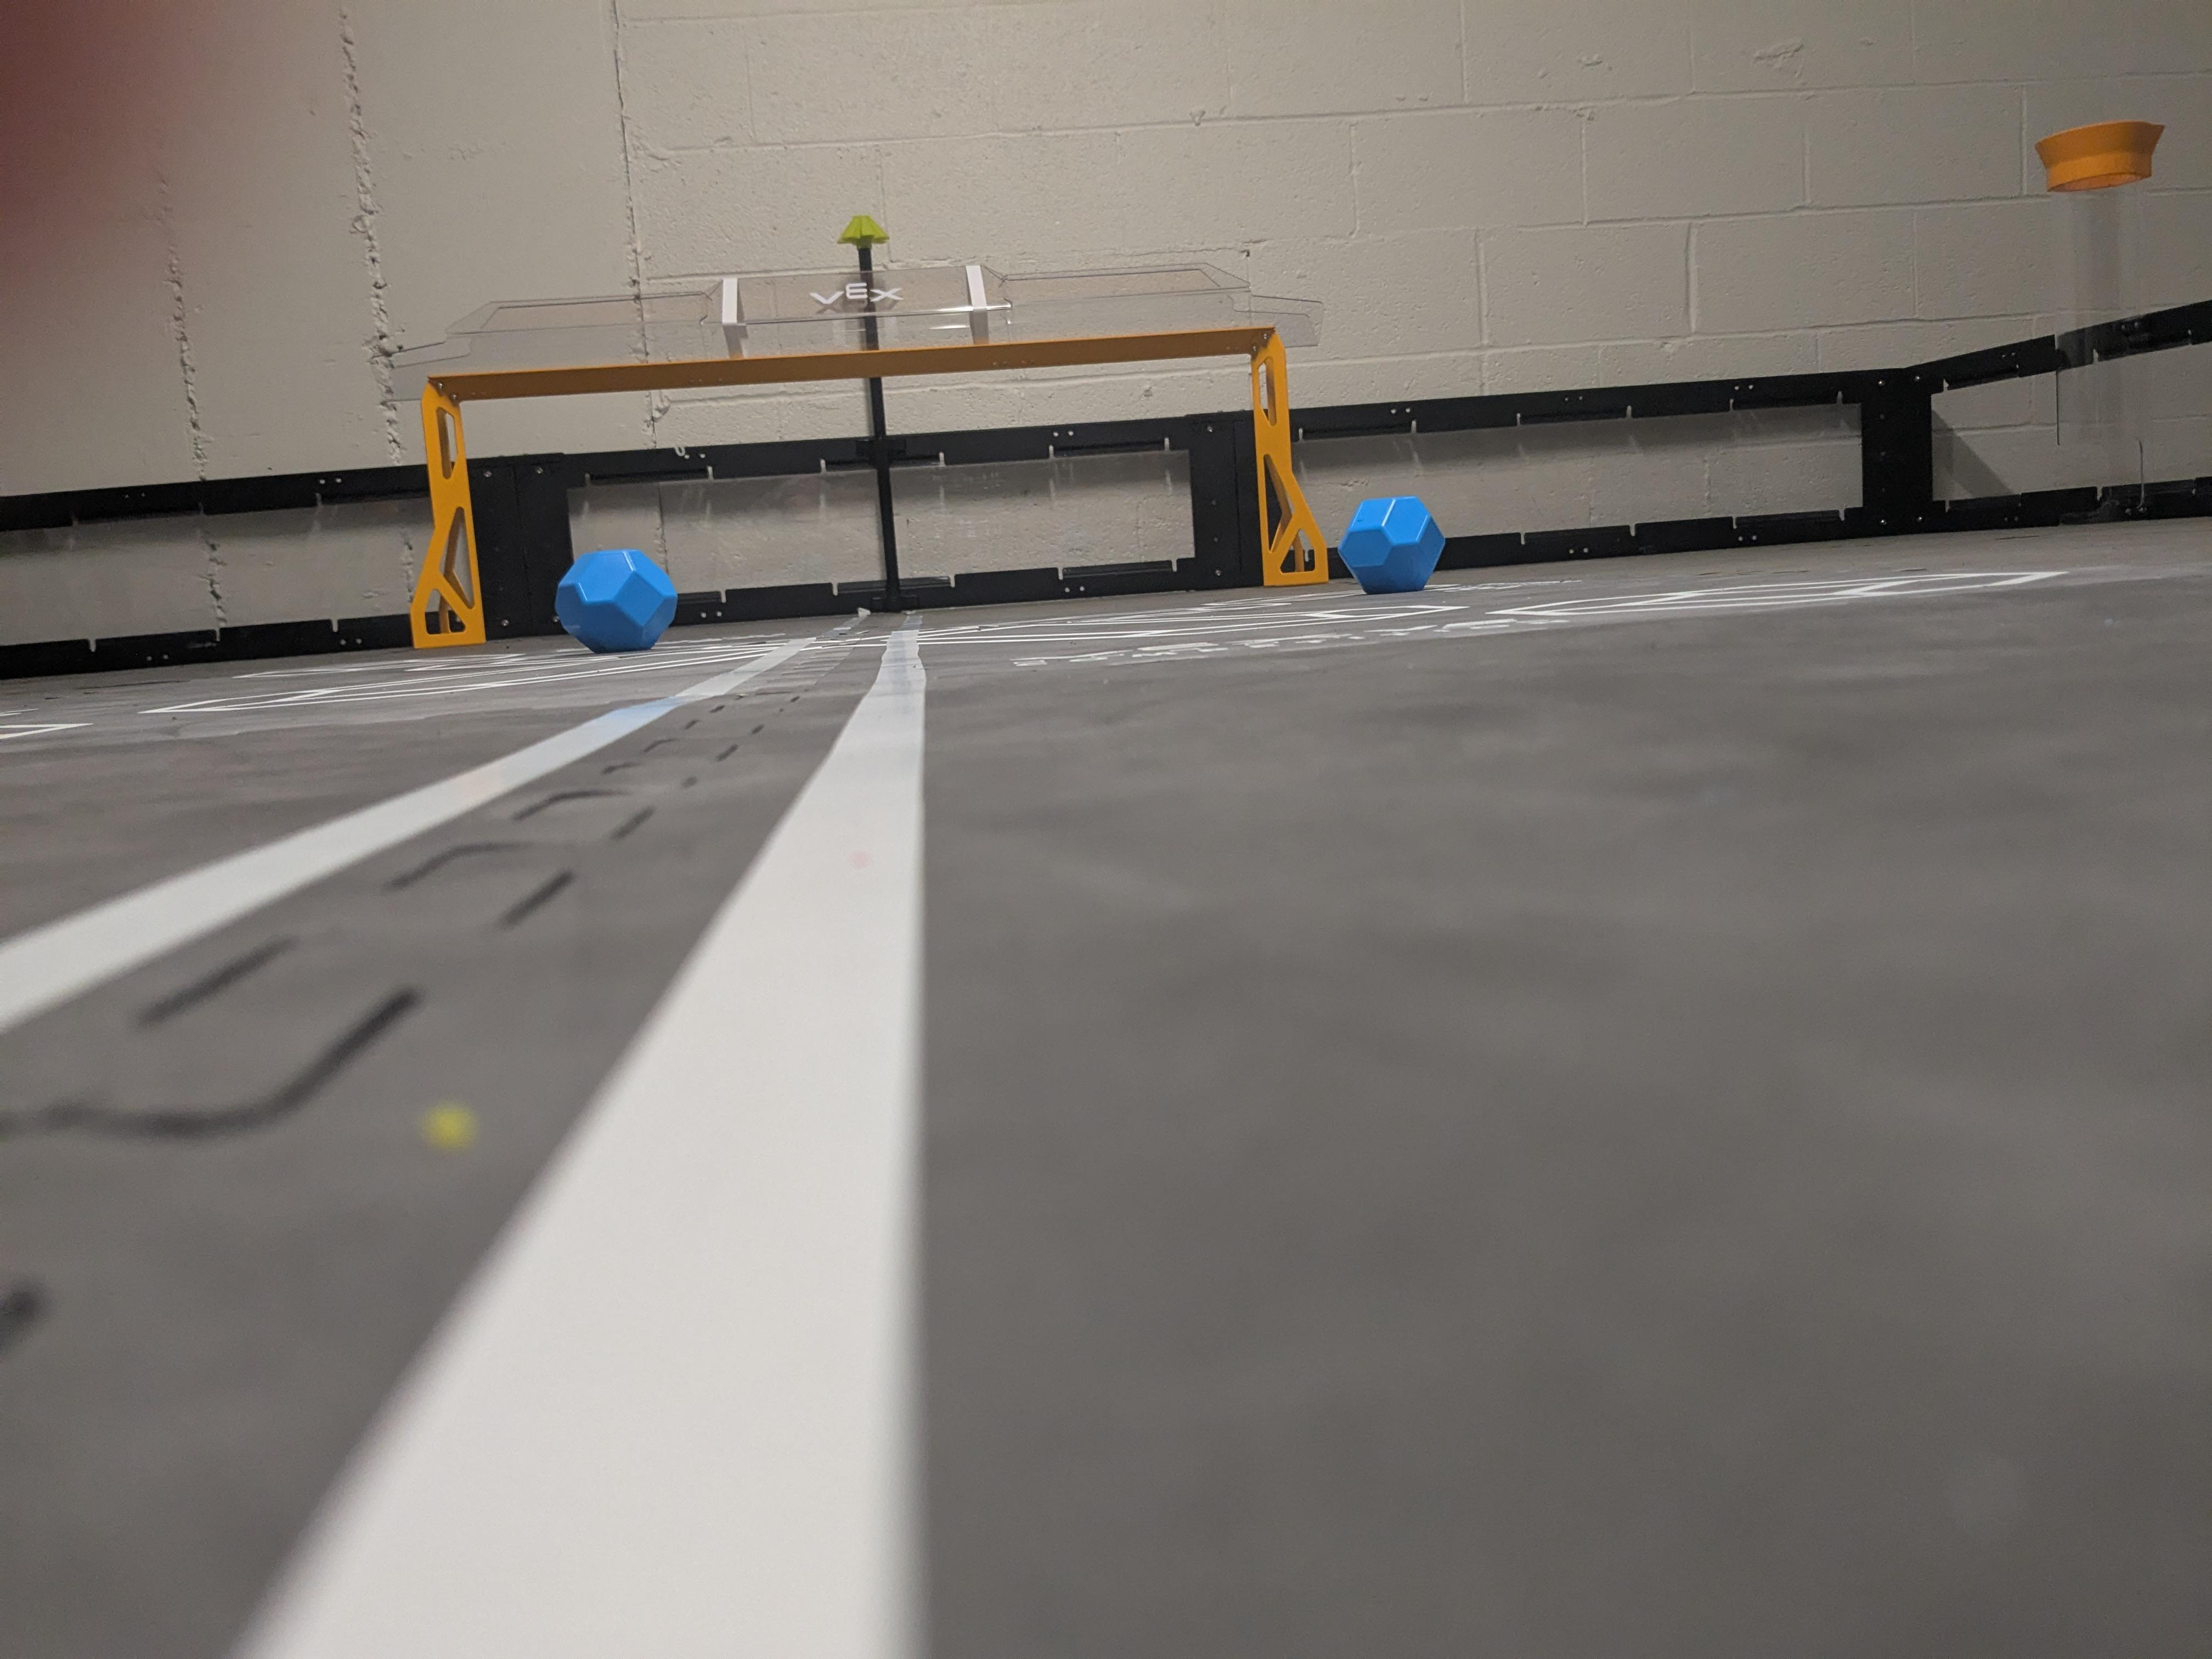Vex-Pieces-BLUE: (556, 551, 672, 647), (1339, 497, 1444, 587)
